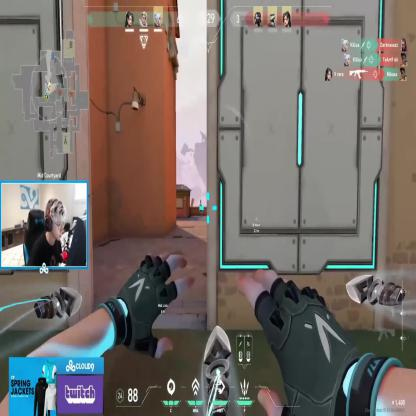enemy: (200, 198, 202, 218)
enemy_head: (200, 199, 201, 203)
